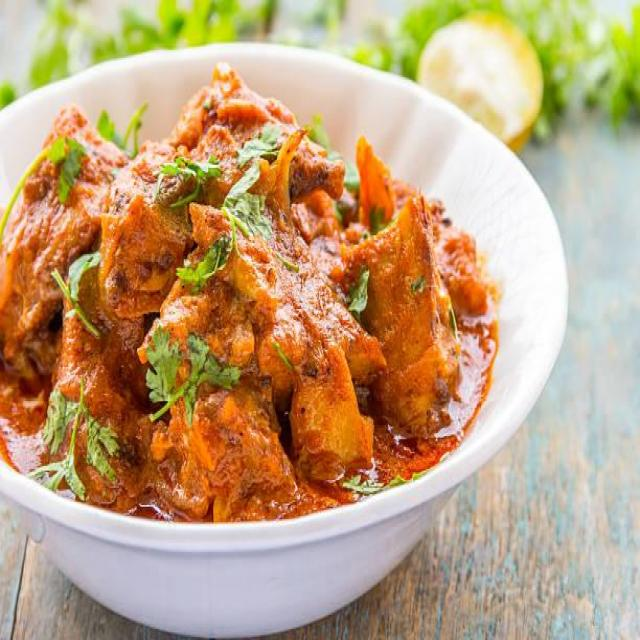chicken: (1, 60, 492, 500)
